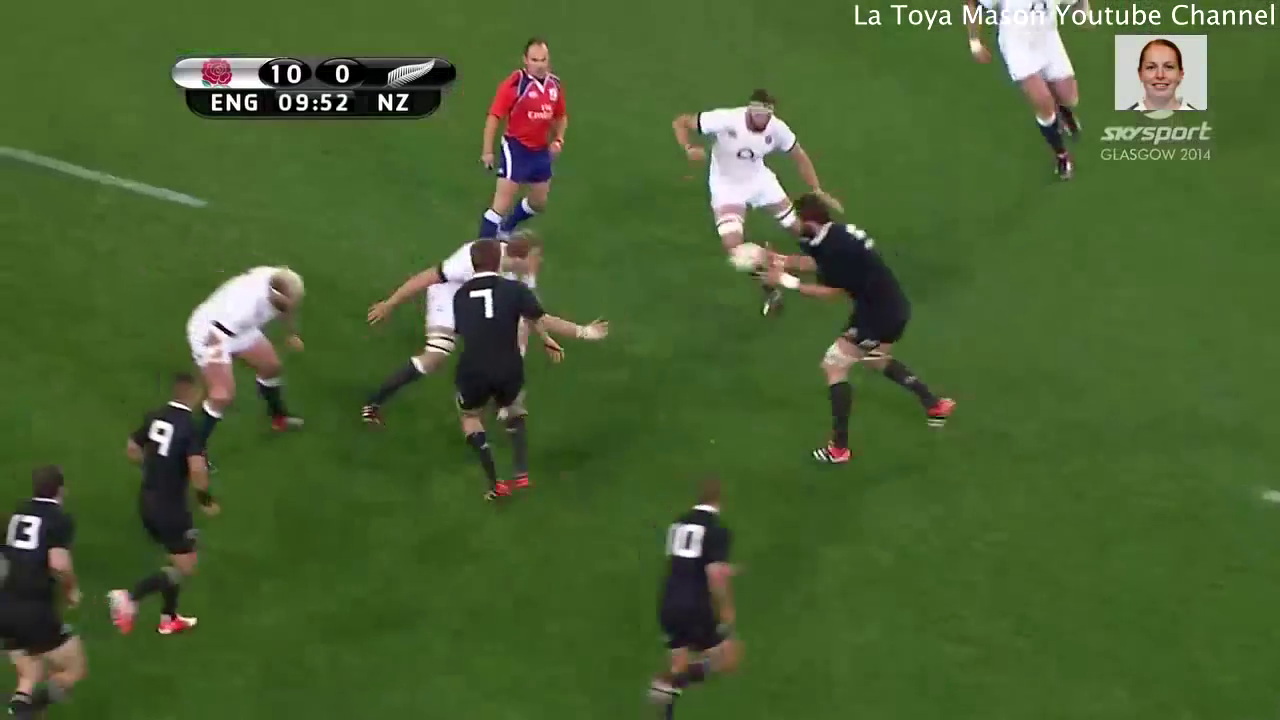player: (710, 182, 976, 483), (337, 208, 618, 441), (645, 74, 867, 326), (434, 227, 570, 524), (161, 247, 324, 467), (629, 465, 758, 720), (97, 367, 217, 640), (957, 1, 1102, 198), (455, 33, 585, 240), (1, 448, 90, 720)
